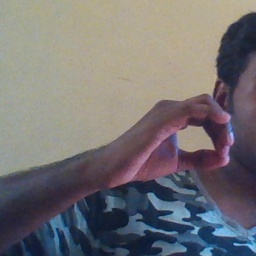O: (112, 89, 239, 195)
